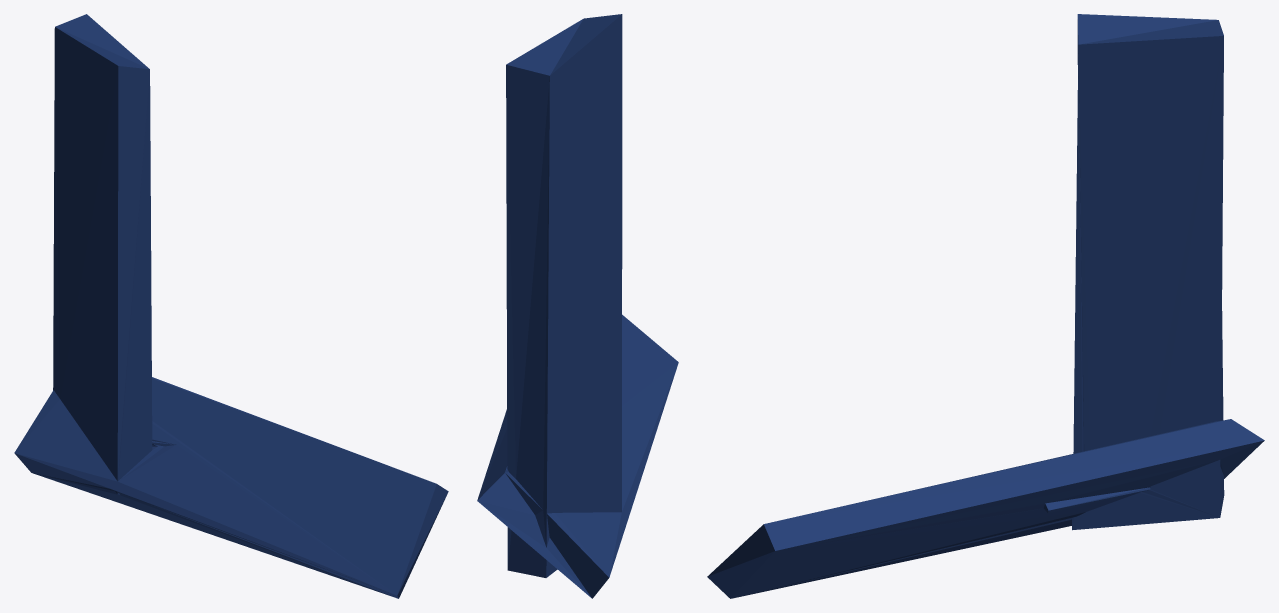
3 renders of one model, left to right at view 1: azimuth 30°, elevation 25°; view 2: azimuth 150°, elevation 25°; view 3: azimuth 270°, elevation 25°, orthographic. The views are drawn at different scales.
Visible parts, largest first — view 1: 390_Cube.1588; view 2: 390_Cube.1588; view 3: 390_Cube.1588.
Part boxes in pixels (box(x1,y1,x2,y2)): 390_Cube.1588: box(14, 14, 448, 598); 390_Cube.1588: box(477, 14, 678, 598); 390_Cube.1588: box(707, 14, 1264, 598).
Size of the model in its own units: 7.22 by 12.8 by 12.58.
